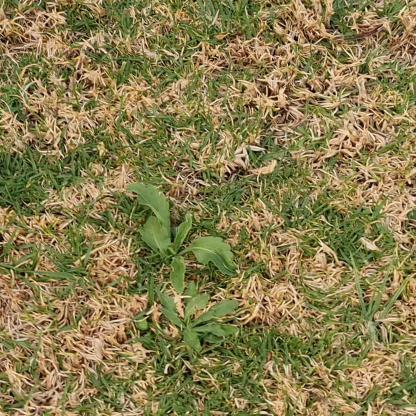Weeds: (125, 182, 238, 296), (154, 281, 241, 358)
